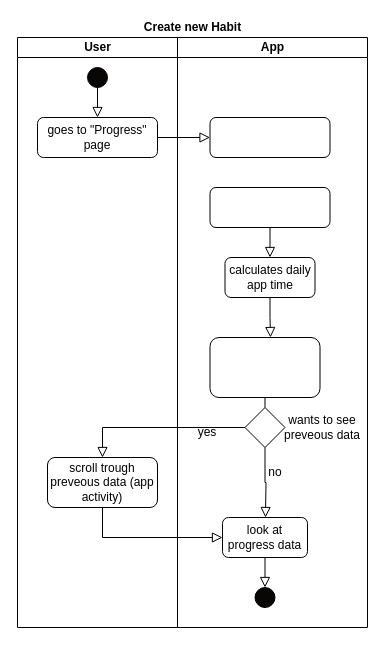
This 385x645 diagram has some shape labels left out. Here are the shapes that lost their labels. From the top down, the centre of each, then its label:
At (x=269, y=137): "gets data from server".
At (x=269, y=207): "calculates completion rate and flames".
At (x=264, y=367): "expresses all the data and information on progress page".
